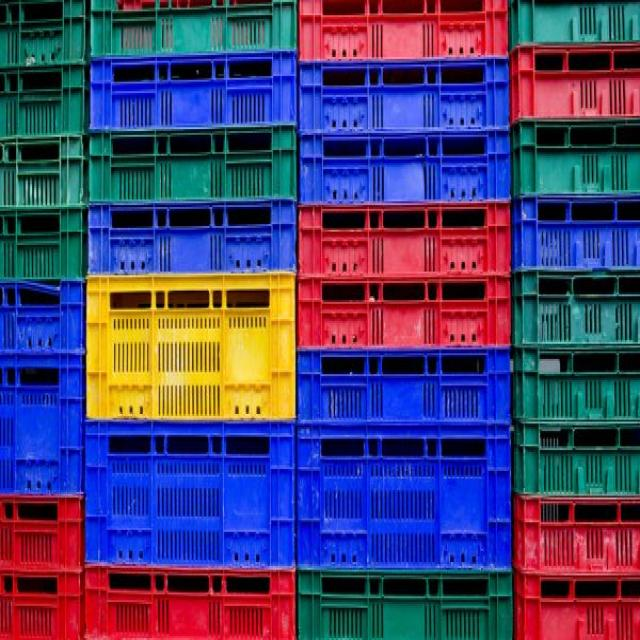basket: (296, 347, 514, 571), (85, 421, 296, 569), (299, 203, 511, 349), (86, 273, 295, 420), (89, 49, 299, 130), (298, 348, 512, 424), (89, 125, 297, 201), (88, 199, 297, 274), (300, 131, 511, 203), (299, 59, 510, 131), (85, 568, 295, 640), (299, 573, 513, 640), (299, 1, 509, 61), (0, 496, 84, 640), (0, 0, 86, 136), (0, 355, 83, 494), (513, 121, 640, 195), (513, 424, 640, 498), (0, 135, 88, 209), (0, 281, 85, 353), (0, 209, 87, 279)
